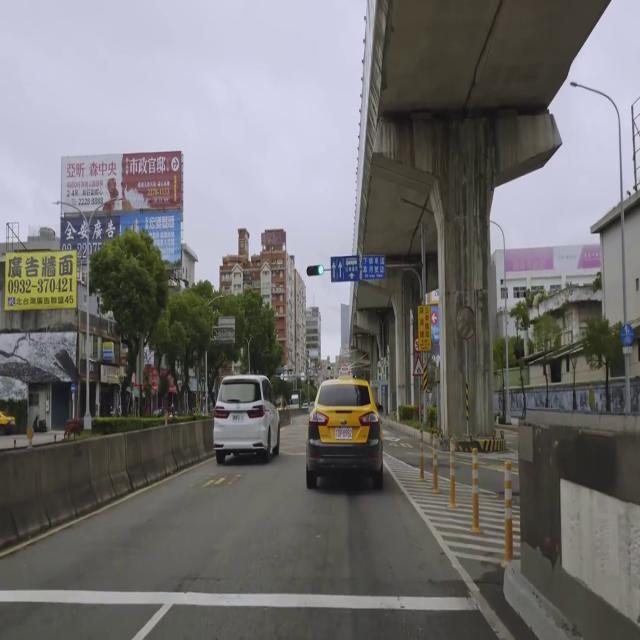green light: (306, 265, 324, 277)
